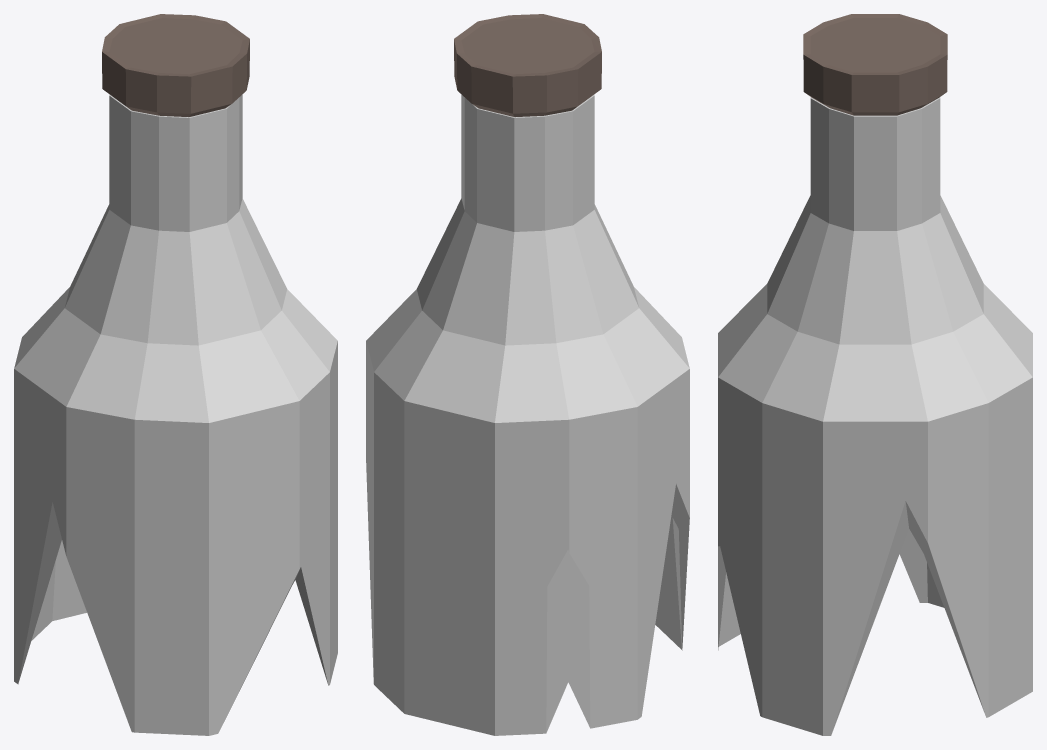
The model's file is Bottle Broken 1.fbx.
3 renders of one model, left to right at view 1: azimuth 30°, elevation 25°; view 2: azimuth 150°, elevation 25°; view 3: azimuth 270°, elevation 25°, orthographic.
Visible parts, largest first — view 1: polySurface5; view 2: polySurface5; view 3: polySurface5.
Boxes of the visible parts, left/top/right/bottom form: polySurface5: left=14, top=14, right=337, bottom=735; polySurface5: left=366, top=14, right=689, bottom=735; polySurface5: left=718, top=14, right=1032, bottom=735.
Size of the model in its own units: 2.69 by 5.9 by 2.69.
